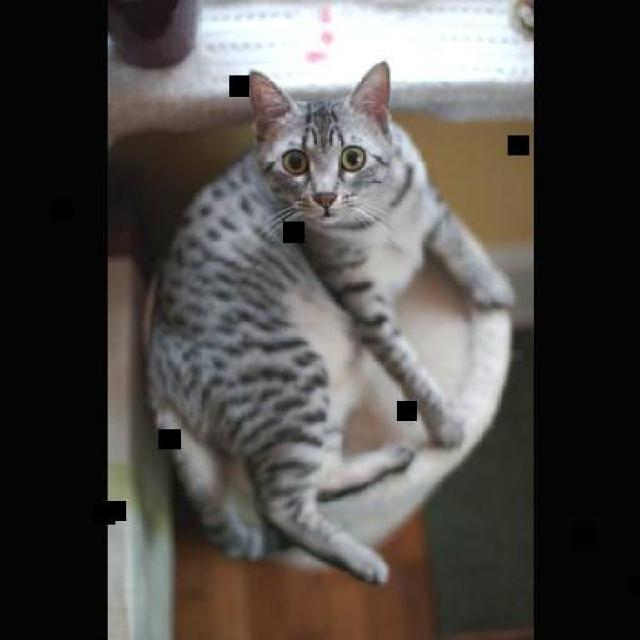unauthorized: (140, 59, 515, 586)
